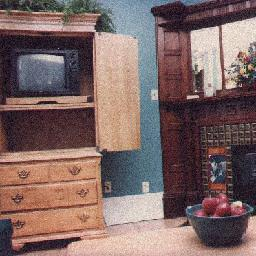Armario: (4, 14, 108, 236)
